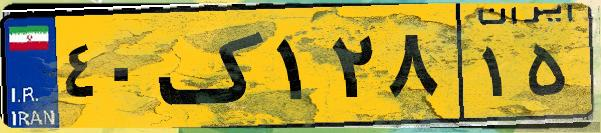0: (110, 28, 158, 98)
1: (270, 28, 330, 110), (475, 38, 525, 113)
2: (330, 28, 385, 110)
4: (57, 26, 110, 100)
5: (525, 38, 570, 115)
8: (385, 28, 445, 110)
ک: (158, 12, 270, 120)
